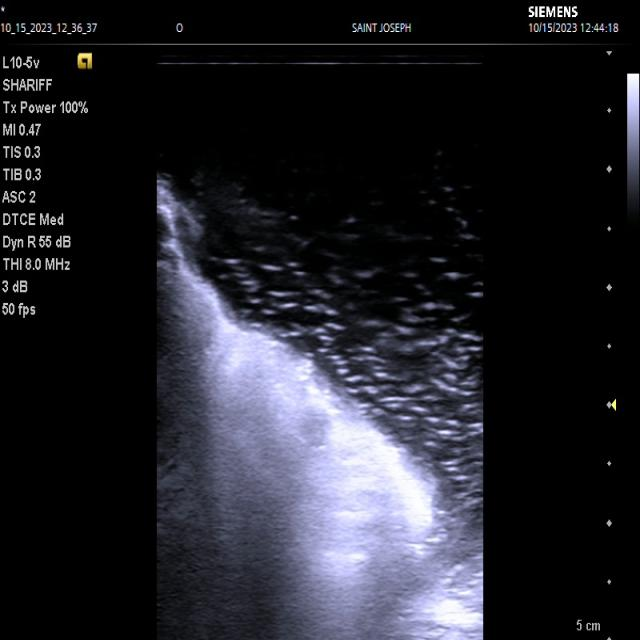tissue: (155, 175, 484, 640)
